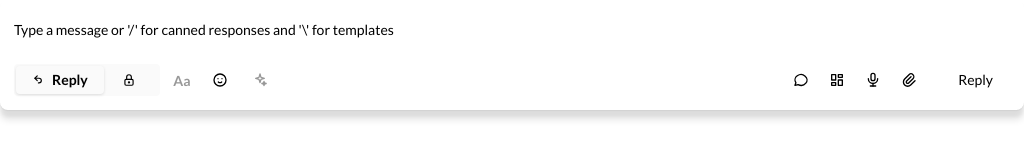
TicketComposer canned responses › opens the templates drawer from its button, with a serial before each name
Click the button named "Templates" at (837, 80), box x1=821 y1=64 x2=853 y2=96
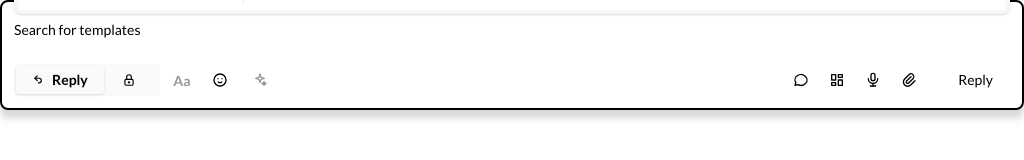
Press Enter
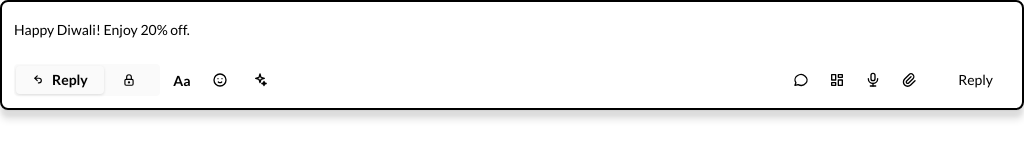
Check: the text box holds "Happy Diwali! Enjoy 20% off.", box x1=14 y1=14 x2=1010 y2=46
